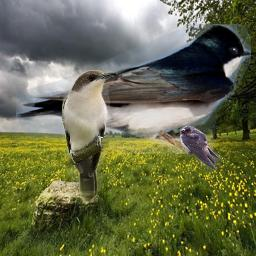Cuckoo: (62, 70, 119, 204)
Swallow: (16, 24, 251, 154), (179, 125, 222, 170)
